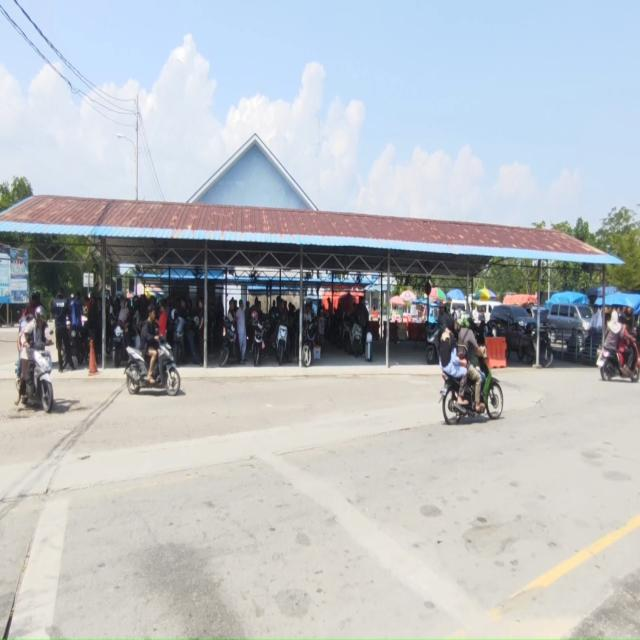Golongan II: (441, 358, 504, 425), (124, 337, 180, 397), (16, 347, 54, 413), (596, 340, 640, 382), (517, 327, 554, 368), (220, 318, 240, 367), (69, 326, 89, 366), (252, 321, 268, 366), (302, 320, 317, 368), (112, 320, 126, 368), (173, 316, 186, 364), (276, 324, 289, 366), (426, 324, 439, 364), (349, 322, 363, 358), (339, 315, 352, 353)
